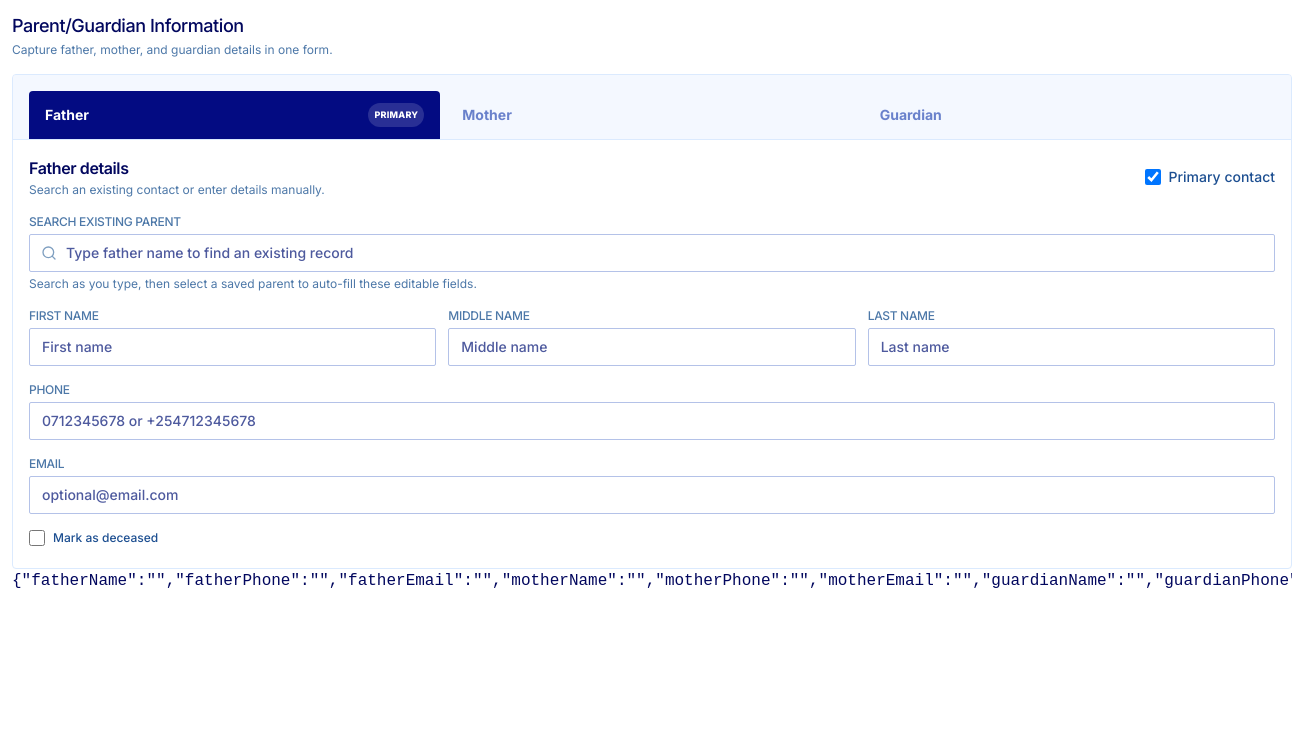
ParentGuardianStep › searches existing parents, fills editable fields, and unlinks after manual edits
Type "Jane Doe" into the field with placeholder "Type father name to find an existing record".
click(652, 253); type("Jane Doe")  # box [29,234,1275,272]
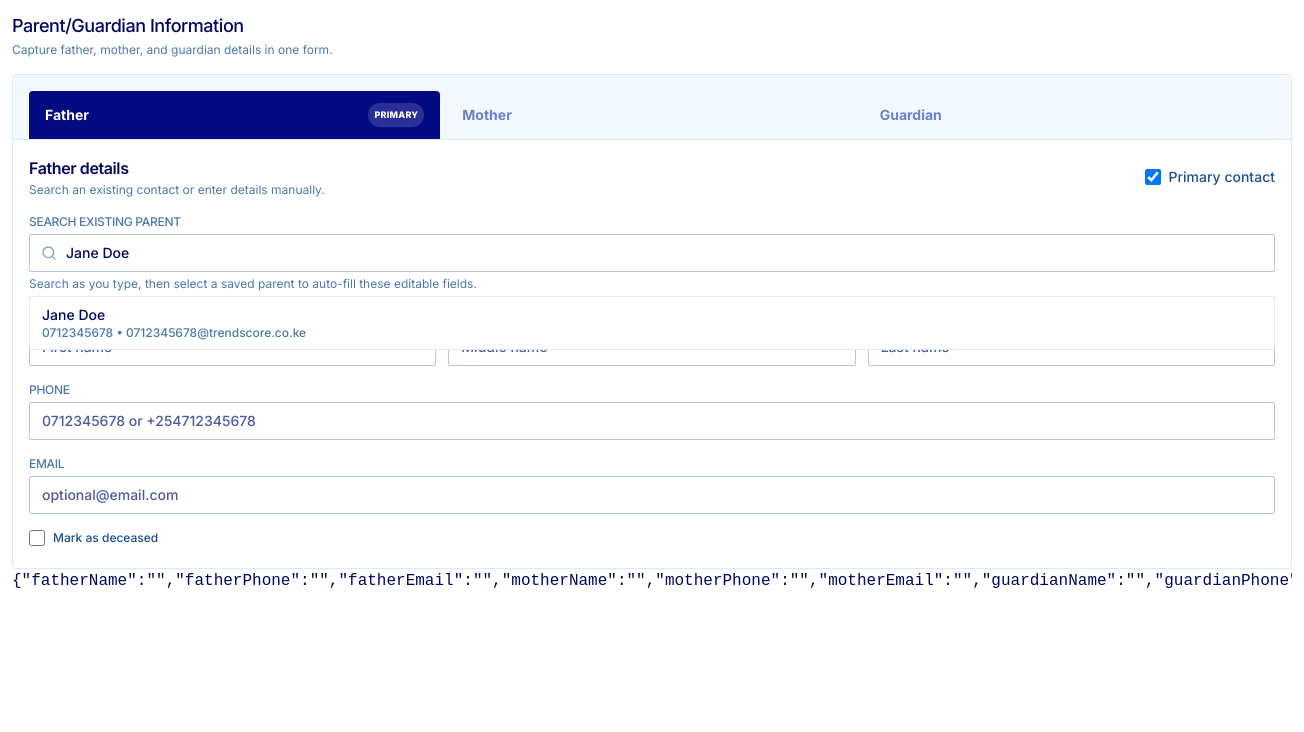
Now the text "Jane Doe" is shown
Press the mouse on the text "Jane Doe" at (74, 314), box [42,306,105,323]
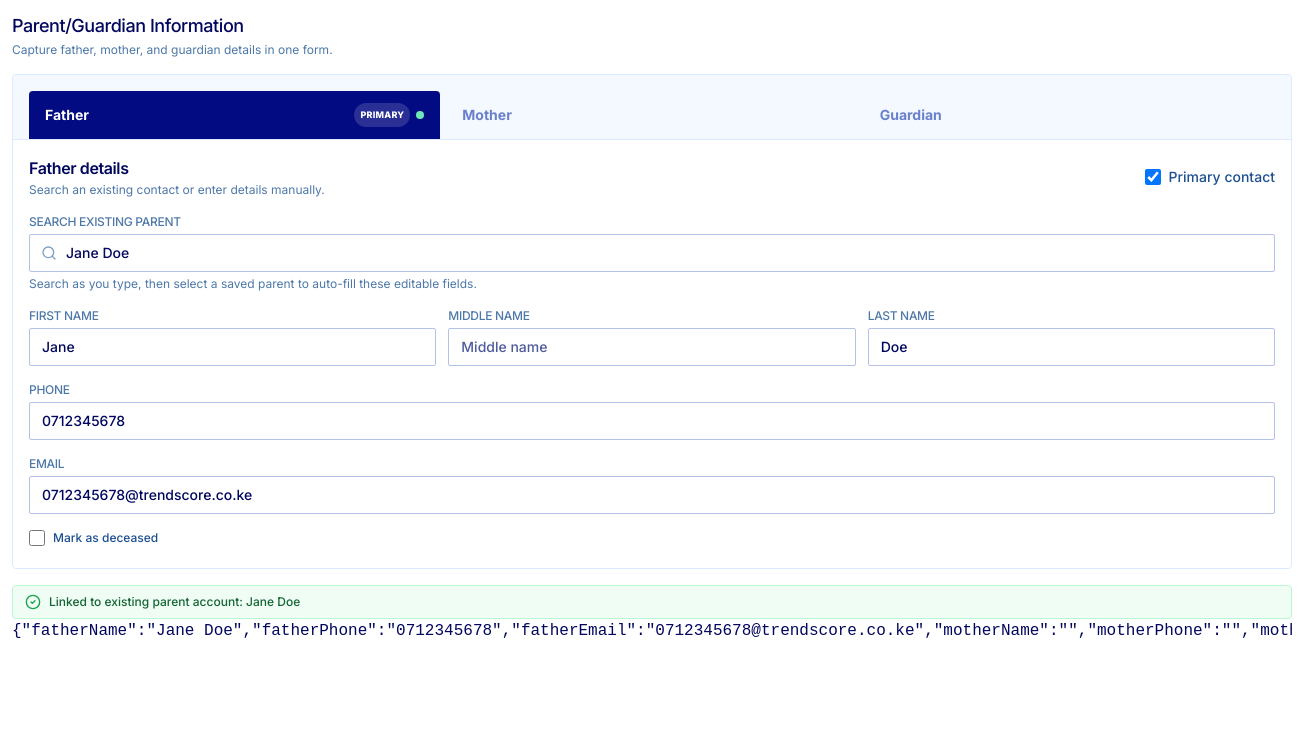
Now the field showing "Jane" below "First Name" is shown, box [29,328,436,366]
Now the field showing "Doe" below "Last Name" is shown, box [868,328,1275,366]
Now the text "Linked to existing parent account: Jane Doe" is shown, box [49,594,300,610]
Replace the text in the 4th field showing "0712345678" with "0799999999" at (652, 421), box [29,402,1275,440]
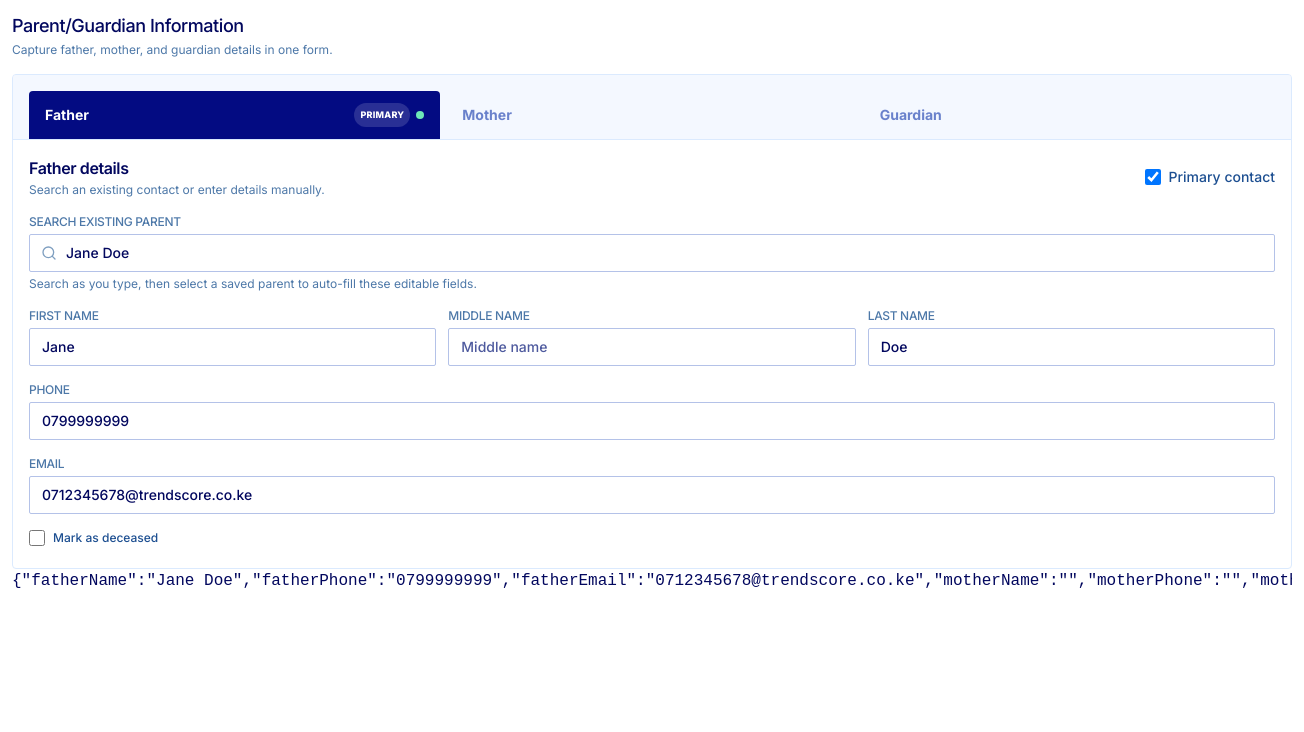
Now the text "Linked to existing parent account" is gone
